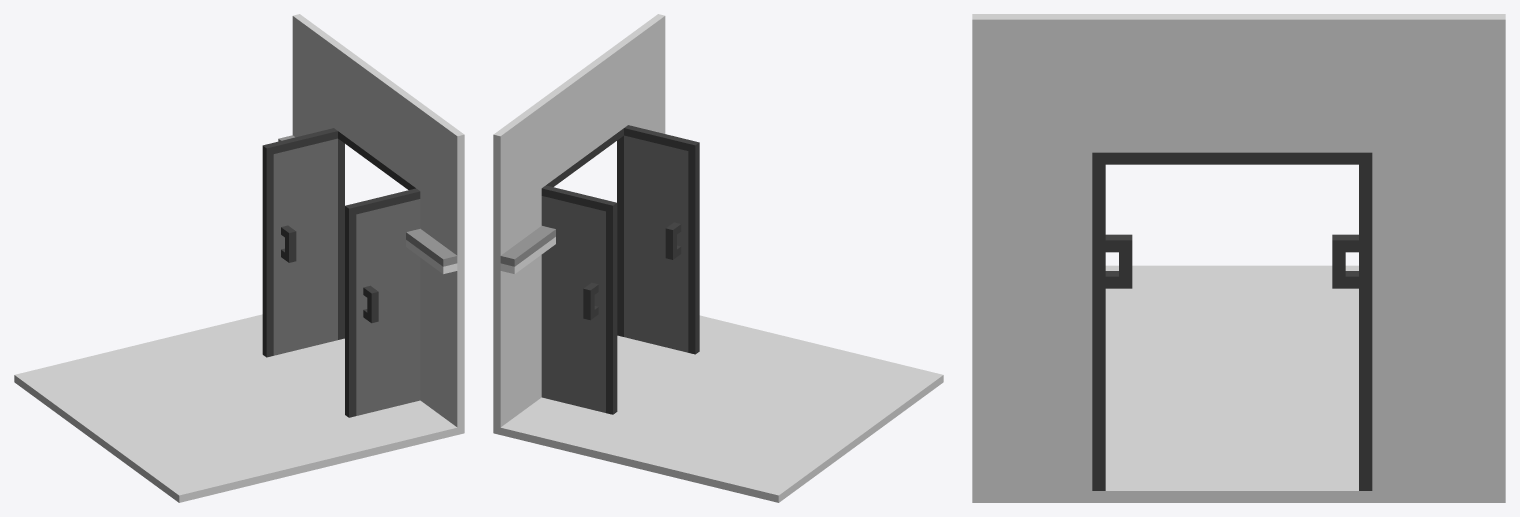
File: Wall_with_door_Open_ver_1.obj
3 renders of one model, left to right at view 1: azimuth 30°, elevation 25°; view 2: azimuth 150°, elevation 25°; view 3: azimuth 270°, elevation 25°, orthographic. The views are drawn at different scales.
Size of the model in its own units: 4 by 4 by 4.
1 material, 1 textured.
